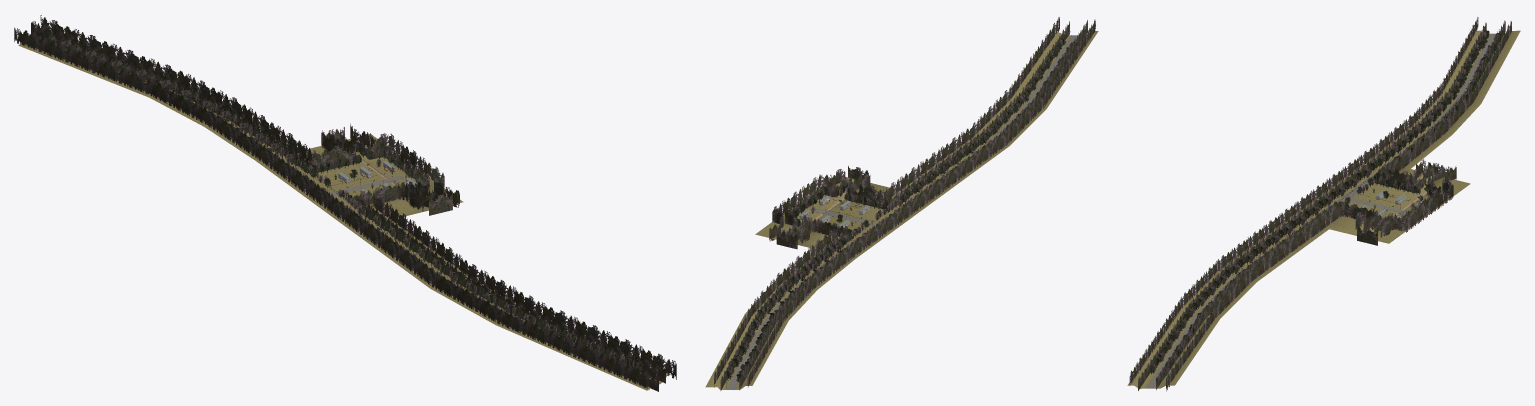
File: trailer_park.glb
3 views of the same model, side by side, from view 1: azimuth 30°, elevation 25°; view 2: azimuth 150°, elevation 25°; view 3: azimuth 330°, elevation 25° (orthographic). The views are drawn at different scales.
Visible parts, largest first — view 1: Background.011, Terrain, Background.010, Background.007, Background.003, Background.004, Background.006, Background.009, Terrain.002, Background.001, Background.008, Terrain.001 (+3 smaller); view 2: Terrain, Terrain.002, Terrain.001, Background.003, Background.004, Background.010, Background.011, Background.008, Background.006, Background.007, Background.005, Background (+3 smaller); view 3: Terrain, Terrain.002, Terrain.001, Background.003, Background.004, Background.010, Background.011, Background.009, Background.006, Background.007, Background.008, Background (+3 smaller).
Part boxes in pixels (<box>): Background.011: <box>352,216,649,389</box>; Terrain: <box>256,134,463,229</box>; Background.010: <box>391,205,676,379</box>; Background.007: <box>14,27,257,157</box>; Background.003: <box>295,123,459,219</box>; Background.004: <box>285,127,452,221</box>; Background.006: <box>40,15,295,150</box>; Background.009: <box>380,212,665,383</box>; Terrain.002: <box>349,220,668,390</box>; Background.001: <box>31,21,285,155</box>; Background.008: <box>361,215,658,391</box>; Terrain.001: <box>18,29,288,160</box>; Terrain: <box>755,176,937,258</box>; Terrain.002: <box>900,31,1098,198</box>; Terrain.001: <box>705,251,855,389</box>; Background.003: <box>769,169,901,250</box>; Background.004: <box>776,166,911,252</box>; Background.010: <box>901,17,1059,188</box>; Background.011: <box>935,19,1095,196</box>; Background.008: <box>927,20,1087,196</box>; Background.006: <box>714,239,821,387</box>; Background.007: <box>747,246,852,387</box>; Background.005: <box>739,249,844,390</box>; Background: <box>852,186,935,258</box>; Terrain: <box>1290,159,1470,243</box>; Terrain.002: <box>1127,219,1328,388</box>; Terrain.001: <box>1370,30,1520,168</box>; Background.003: <box>1324,157,1456,237</box>; Background.004: <box>1314,157,1449,245</box>; Background.010: <box>1166,217,1324,391</box>; Background.011: <box>1129,208,1290,385</box>; Background.009: <box>1156,217,1314,389</box>; Background.006: <box>1404,21,1511,166</box>; Background.007: <box>1373,17,1478,156</box>; Background.008: <box>1138,211,1298,390</box>; Background: <box>1290,146,1373,217</box>.
Size of the model in its own units: 172 by 21.99 by 894.
97 materials, 95 textured.
